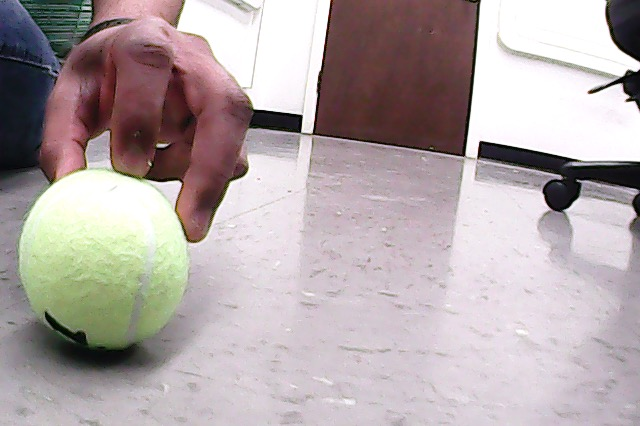ball: (20, 170, 189, 349)
